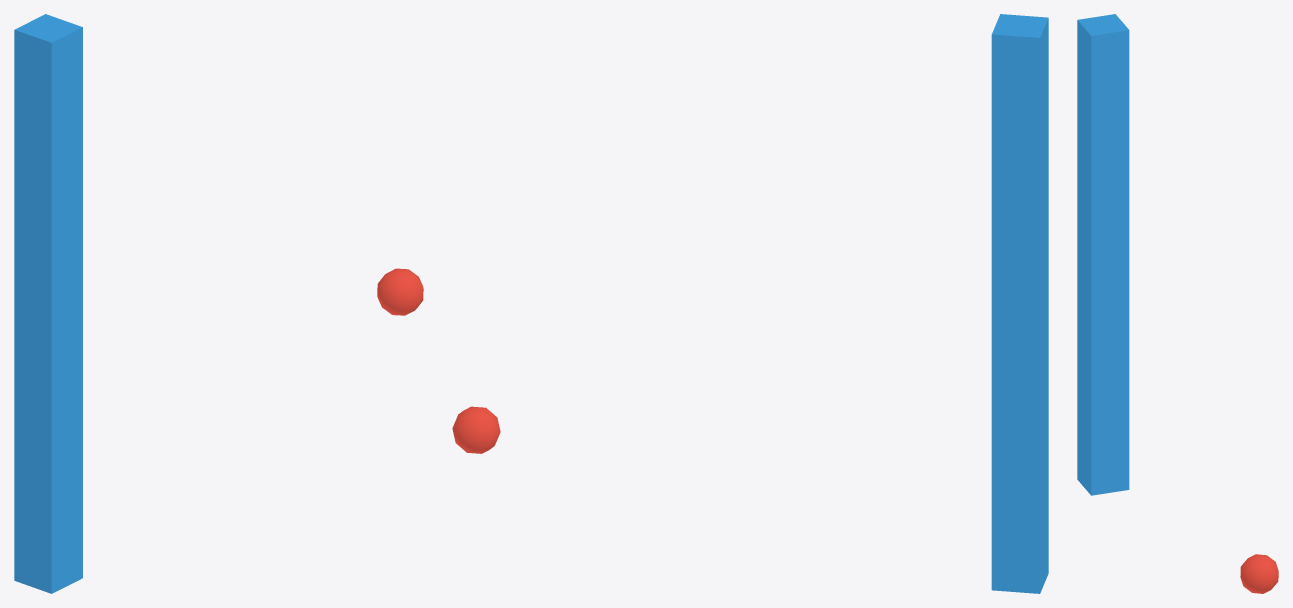
Rendered from Bài 7.12.glb.
The picture shows the model from 3 angles, left to right: view 1: azimuth 30°, elevation 25°; view 2: azimuth 150°, elevation 25°; view 3: azimuth 270°, elevation 25°; orthographic projection. The views are drawn at different scales.
Visible parts, largest first — view 1: Mesh_22.005, Mesh_28; view 2: Mesh_22.005, Mesh_28; view 3: Mesh_22.005, Mesh_28.
Part boxes in pixels (bbox=[...]): Mesh_22.005: bbox=[14, 14, 82, 593]; Mesh_28: bbox=[377, 268, 423, 315]; Mesh_22.005: bbox=[991, 14, 1048, 593]; Mesh_28: bbox=[452, 406, 500, 453]; Mesh_22.005: bbox=[1077, 14, 1129, 495]; Mesh_28: bbox=[1240, 554, 1278, 593].
Bounding box in the file's own units: 4.68 × 5 × 1.98.
